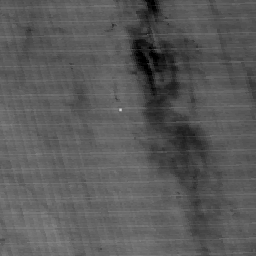Target: (117, 106, 124, 113)
